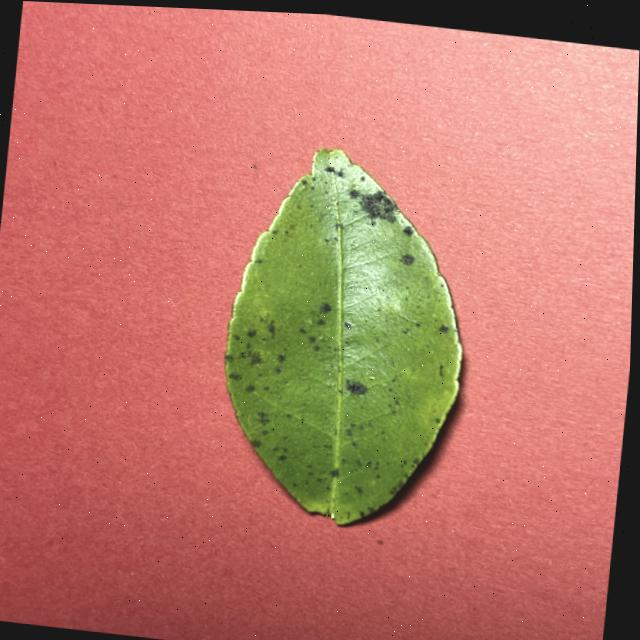sooty_mold: (224, 149, 461, 524)
